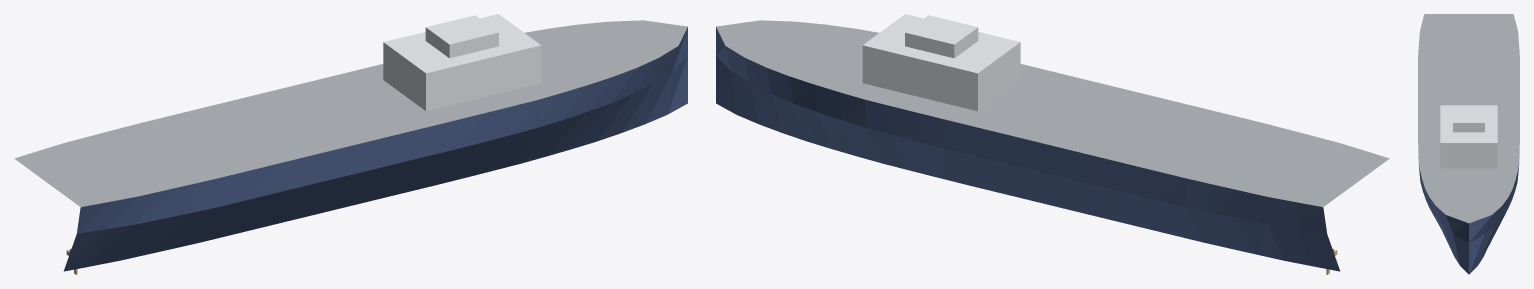
The model's file is workboat20.glb.
The picture shows the model from 3 angles, left to right: view 1: azimuth 30°, elevation 25°; view 2: azimuth 150°, elevation 25°; view 3: azimuth 270°, elevation 25°; orthographic projection. The views are drawn at different scales.
Visible parts, largest first — view 1: hull, deck, wheelhouse; view 2: hull, deck, wheelhouse; view 3: deck, wheelhouse, hull.
Boxes of the visible parts, <box> form: hull: <box>63,27,687,271</box>; deck: <box>14,20,687,206</box>; wheelhouse: <box>383,14,541,111</box>; hull: <box>716,27,1340,271</box>; deck: <box>716,20,1389,206</box>; wheelhouse: <box>862,14,1020,111</box>; deck: <box>1418,14,1519,223</box>; wheelhouse: <box>1440,105,1497,168</box>; hull: <box>1418,164,1519,274</box>.
Bounding box in the file's own units: 19.14 × 4.27 × 3.94.
